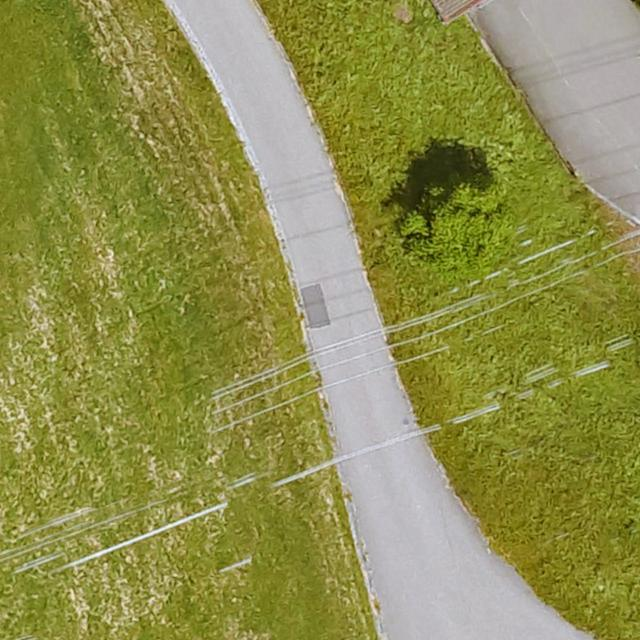tree: (408, 182, 510, 270)
